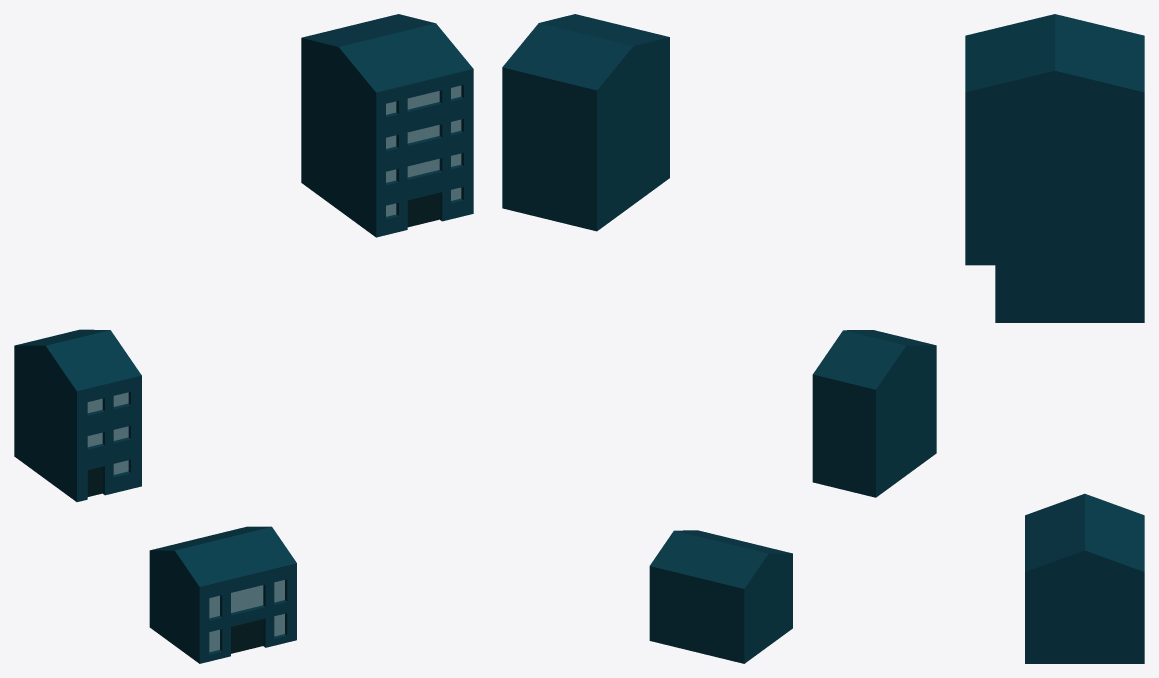
Rendered from BinaGrup11.gltf.
3 renders of one model, left to right at view 1: azimuth 30°, elevation 25°; view 2: azimuth 150°, elevation 25°; view 3: azimuth 270°, elevation 25°, orthographic. The views are drawn at different scales.
Parts seen in each view (by area): view 1: Building_049.011, Building_036.011, Building_044.011, Building_049.012, Building_044.012, Building_036.012, Building_044.013, Building_049.013; view 2: Building_049.011, Building_036.011, Building_044.011; view 3: Building_049.011, Building_044.011, Building_036.011.
Part boxes in pixels (x1,y1,x2,y2): Building_049.011: (301, 14, 473, 237); Building_036.011: (14, 329, 141, 501); Building_044.011: (149, 526, 296, 663); Building_049.012: (386, 85, 461, 216); Building_044.012: (209, 580, 284, 652); Building_036.012: (87, 392, 128, 474); Building_044.013: (231, 619, 263, 653); Building_049.013: (407, 192, 439, 227); Building_049.011: (502, 14, 669, 231); Building_036.011: (812, 330, 936, 497); Building_044.011: (649, 530, 792, 663); Building_049.011: (965, 14, 1144, 265); Building_044.011: (1025, 493, 1144, 663); Building_036.011: (995, 265, 1144, 322).
Size of the model in its own units: 0.1929 by 0.2739 by 0.0652.
